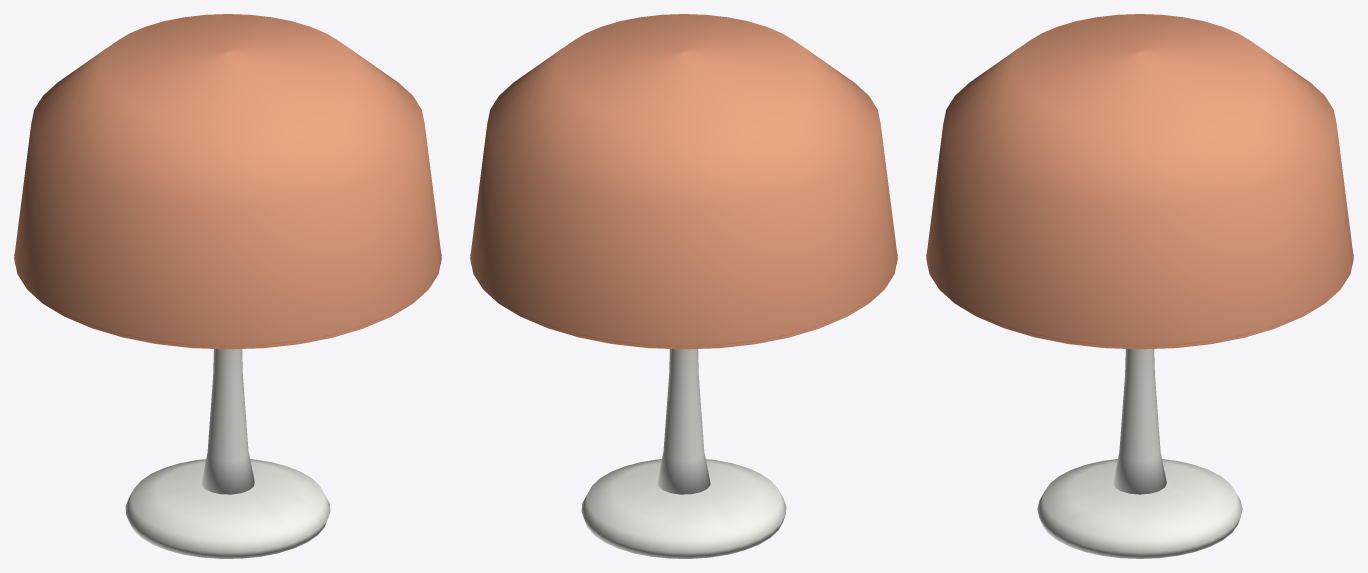
The model's file is lampMushroom.glb.
3 renders of one model, left to right at view 1: azimuth 30°, elevation 25°; view 2: azimuth 150°, elevation 25°; view 3: azimuth 270°, elevation 25°, orthographic.
Visible parts, largest first — view 1: lampMushroom; view 2: lampMushroom; view 3: lampMushroom.
Boxes of the visible parts, x1=… form: lampMushroom: x1=14, y1=14, x2=441, y2=558; lampMushroom: x1=470, y1=14, x2=897, y2=558; lampMushroom: x1=926, y1=14, x2=1353, y2=558.
Size of the model in its own units: 0.3 by 0.36 by 0.3.
